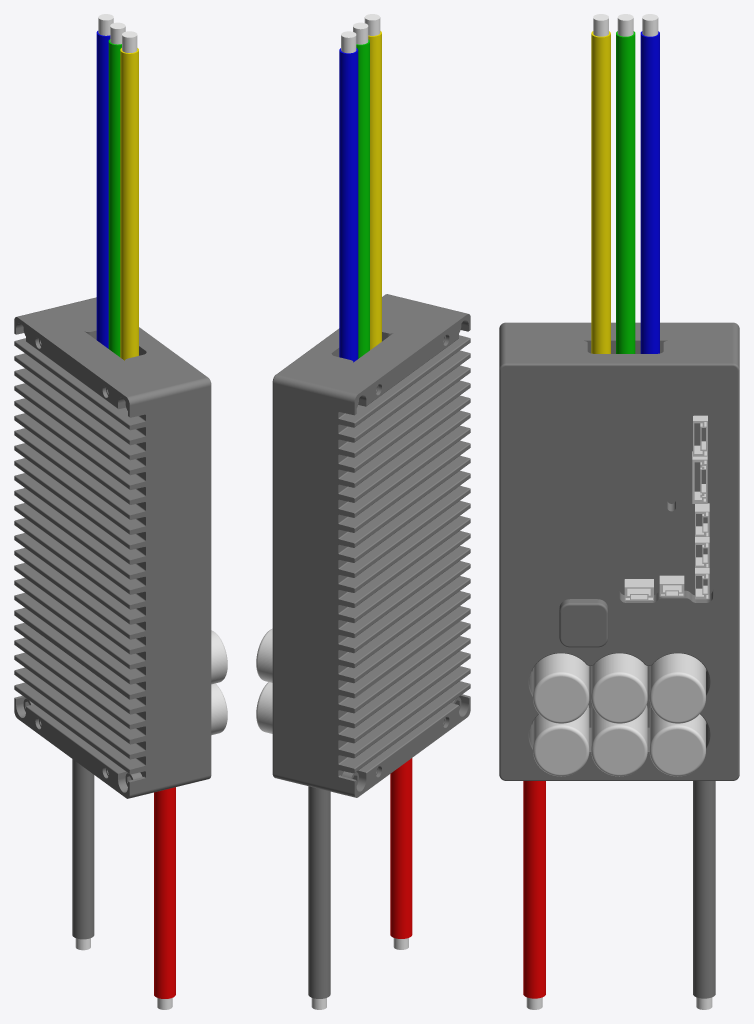
File: fsesc.glb
The picture shows the model from 3 angles, left to right: view 1: azimuth 30°, elevation 25°; view 2: azimuth 150°, elevation 25°; view 3: azimuth 270°, elevation 25°; orthographic projection. The views are drawn at different scales.
Visible parts, largest first — view 1: Node1, Node5, Node3, Node7, Node6, Node2, Node4, Node8; view 2: Node1, Node7, Node2, Node3, Node6, Node5, Node4, Node8; view 3: Node1, Node4, Node5, Node6, Node7, Node2, Node3, Node8.
Part boxes in pixels (x1,y1,x2,y2): Node1: (14, 297, 211, 798); Node5: (120, 48, 138, 360); Node3: (154, 787, 175, 998); Node7: (96, 31, 110, 348); Node6: (108, 39, 121, 356); Node2: (72, 759, 94, 939); Node4: (211, 630, 227, 735); Node8: (75, 14, 172, 1009); Node1: (272, 294, 470, 797); Node7: (339, 48, 358, 362); Node2: (308, 786, 330, 998); Node3: (390, 758, 412, 938); Node6: (356, 39, 369, 358); Node5: (368, 31, 381, 349); Node4: (256, 628, 272, 733); Node8: (311, 14, 408, 1009); Node1: (499, 322, 739, 780); Node4: (533, 415, 709, 776); Node5: (591, 31, 610, 353); Node6: (616, 31, 635, 353); Node7: (640, 31, 659, 353); Node2: (693, 781, 715, 998); Node3: (523, 781, 545, 998); Node8: (526, 14, 712, 1009).
Size of the model in its own units: 39.2 by 308 by 68.
